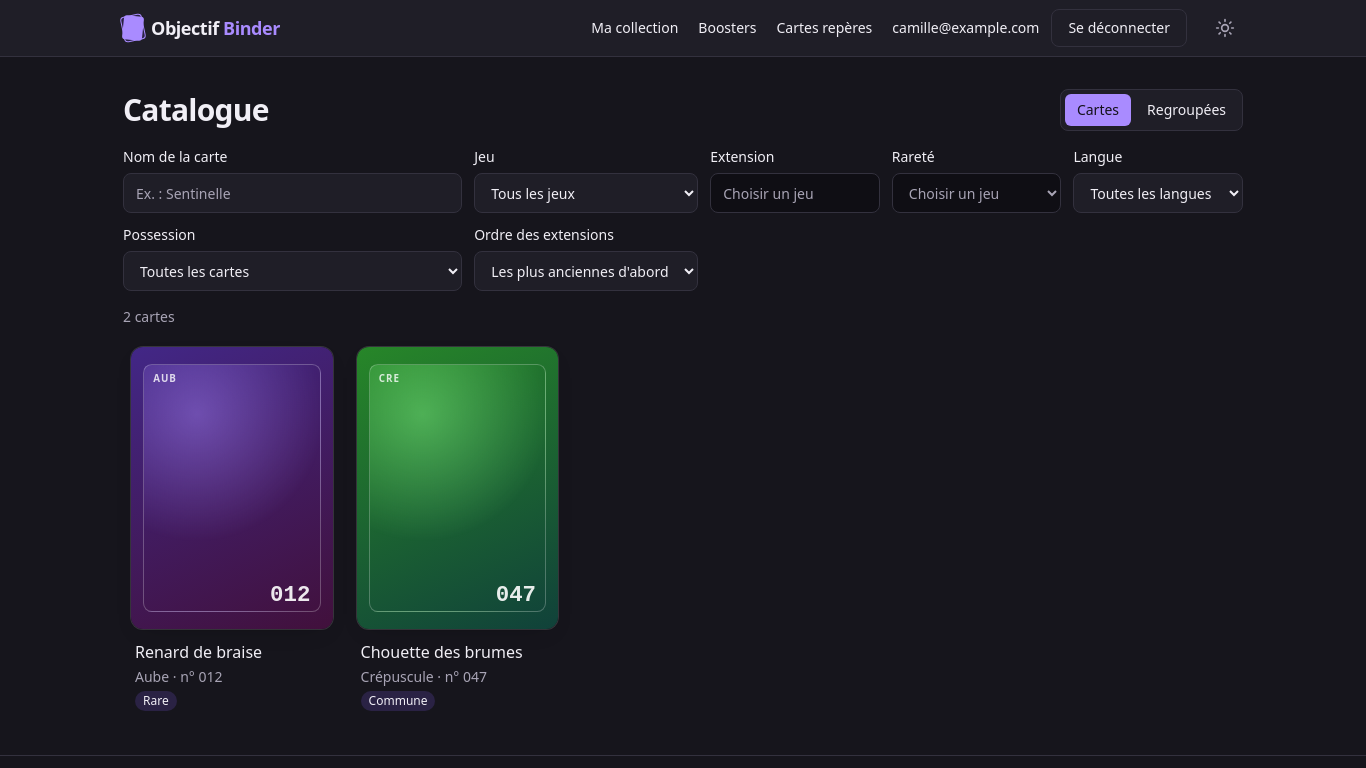
account page (signed-in users only) › is reached from the header once signed in
The image size is (1366, 768).
Step 1. Click the link "camille@example.com" → click(966, 28), box [892,18,1039,38]
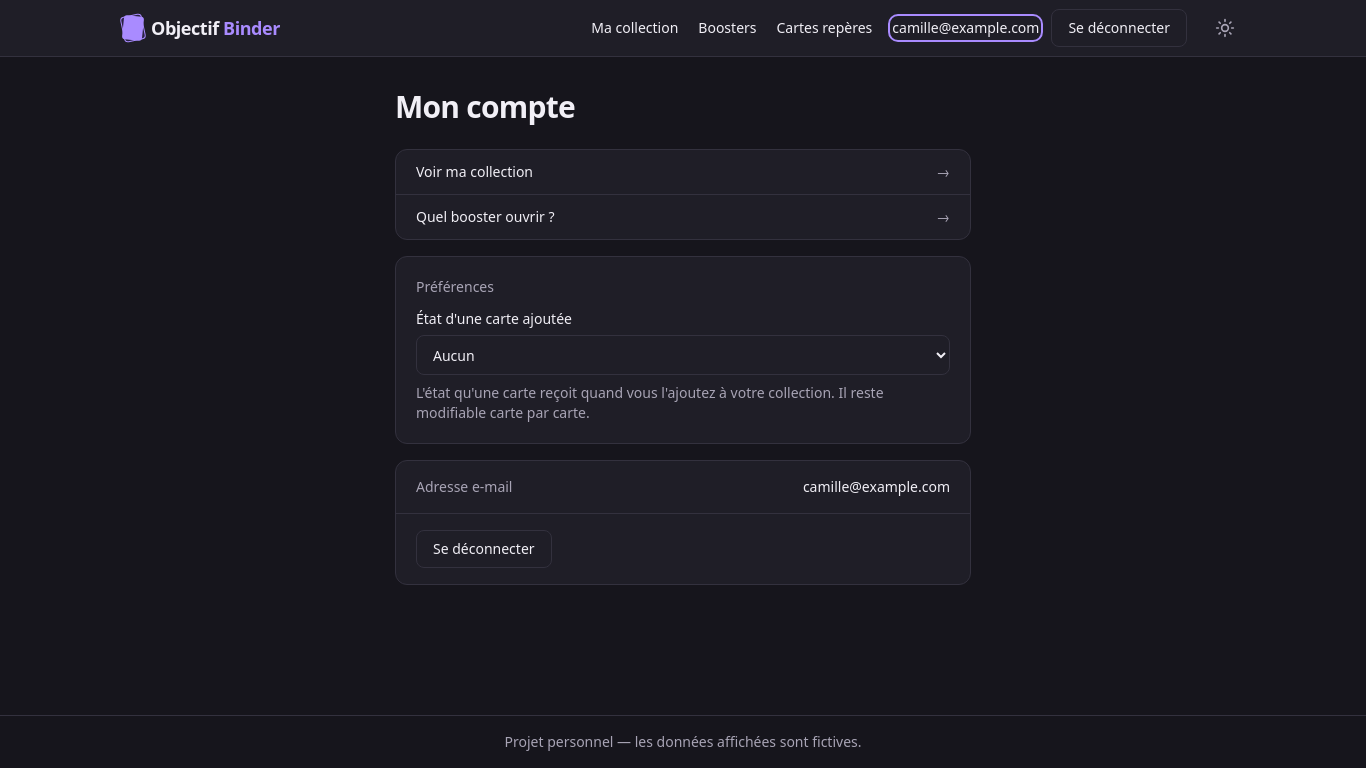
Expected: the heading "Mon compte" is shown, [395,86,575,127]
